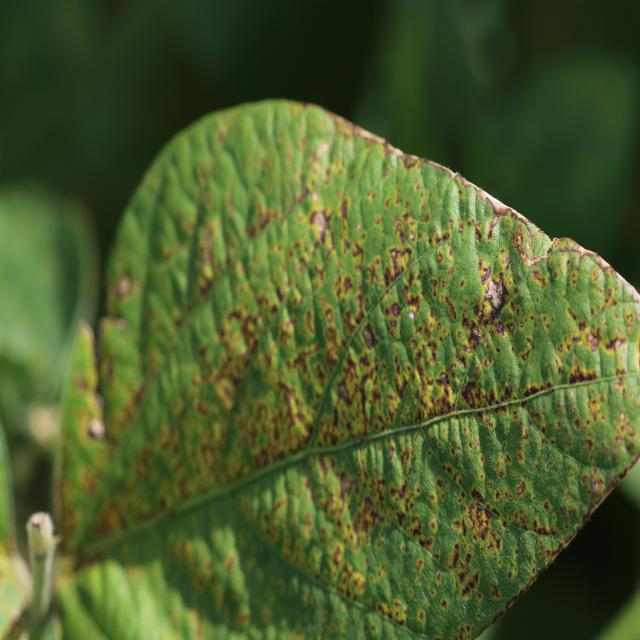Bacterial_Blight: (239, 547, 325, 635), (317, 111, 393, 160), (373, 336, 416, 413), (592, 462, 633, 509), (95, 314, 130, 369), (248, 199, 281, 236), (333, 269, 359, 314), (68, 541, 97, 574), (548, 242, 588, 259), (388, 246, 408, 278), (241, 313, 259, 347), (474, 504, 494, 533), (280, 383, 298, 415), (309, 208, 329, 235), (403, 289, 422, 317), (567, 364, 592, 385), (532, 518, 558, 538), (385, 605, 407, 628), (363, 613, 383, 638), (522, 382, 548, 400), (460, 381, 477, 408), (355, 506, 371, 534), (198, 271, 214, 298), (88, 417, 106, 441), (115, 275, 132, 299), (339, 473, 354, 498), (607, 335, 627, 353), (584, 330, 600, 351), (315, 140, 330, 162), (254, 448, 269, 469), (362, 325, 375, 349), (339, 196, 351, 221), (337, 381, 350, 404), (470, 324, 484, 345), (110, 317, 128, 333), (625, 433, 638, 454), (470, 486, 485, 504), (479, 264, 493, 283), (297, 184, 310, 204), (451, 542, 461, 568), (31, 514, 45, 532), (488, 216, 500, 236), (591, 477, 603, 496), (446, 300, 457, 320), (454, 350, 466, 368), (493, 319, 505, 336), (518, 420, 528, 440), (438, 372, 450, 387), (490, 584, 501, 600), (225, 556, 235, 573), (505, 597, 518, 610), (390, 302, 401, 317), (396, 511, 406, 527), (590, 269, 601, 283), (516, 481, 526, 496), (474, 227, 483, 243), (428, 519, 437, 533), (417, 609, 426, 623), (520, 350, 530, 362), (461, 586, 471, 598), (515, 232, 523, 246), (578, 320, 586, 331), (436, 251, 443, 263), (355, 222, 362, 233), (409, 231, 416, 242), (619, 411, 626, 422), (441, 599, 448, 610), (484, 357, 491, 367), (494, 491, 501, 501), (525, 240, 531, 251), (498, 469, 505, 478), (545, 549, 551, 557), (467, 443, 472, 449), (520, 321, 524, 328), (428, 450, 432, 457)
Soybean: (56, 101, 640, 639)
